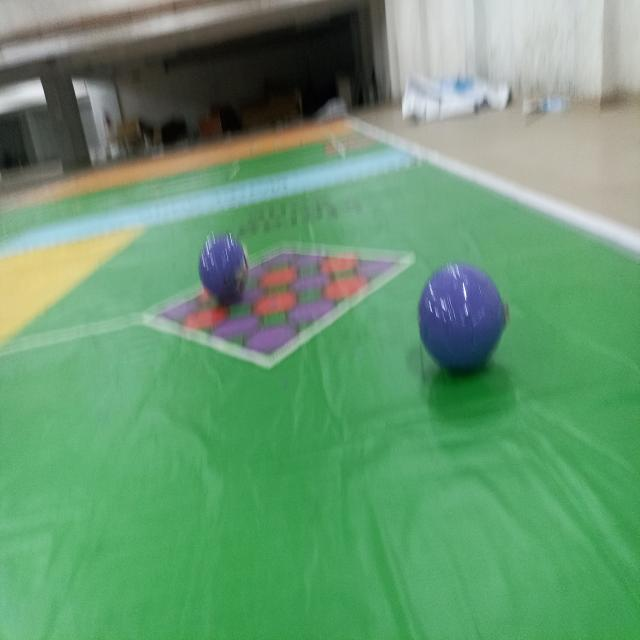purple_ball: (415, 258, 509, 376), (197, 233, 252, 307)
